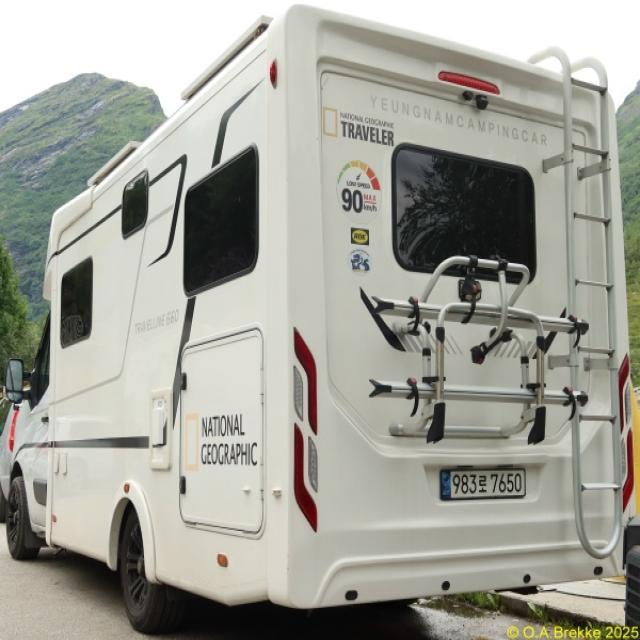car: (427, 457, 545, 516)
